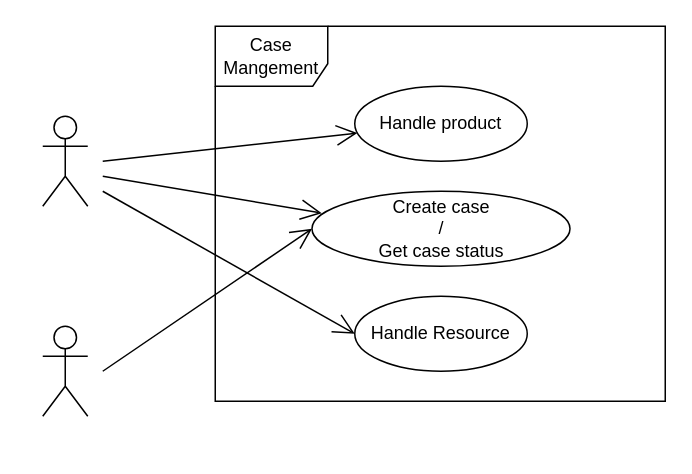
This 692x474 diagram has some shape labels left out. Here are the shapes that lost their labels. From the top down, the box of each, then its label:
(41, 115, 88, 206): Admin
(41, 325, 88, 416): Customer
